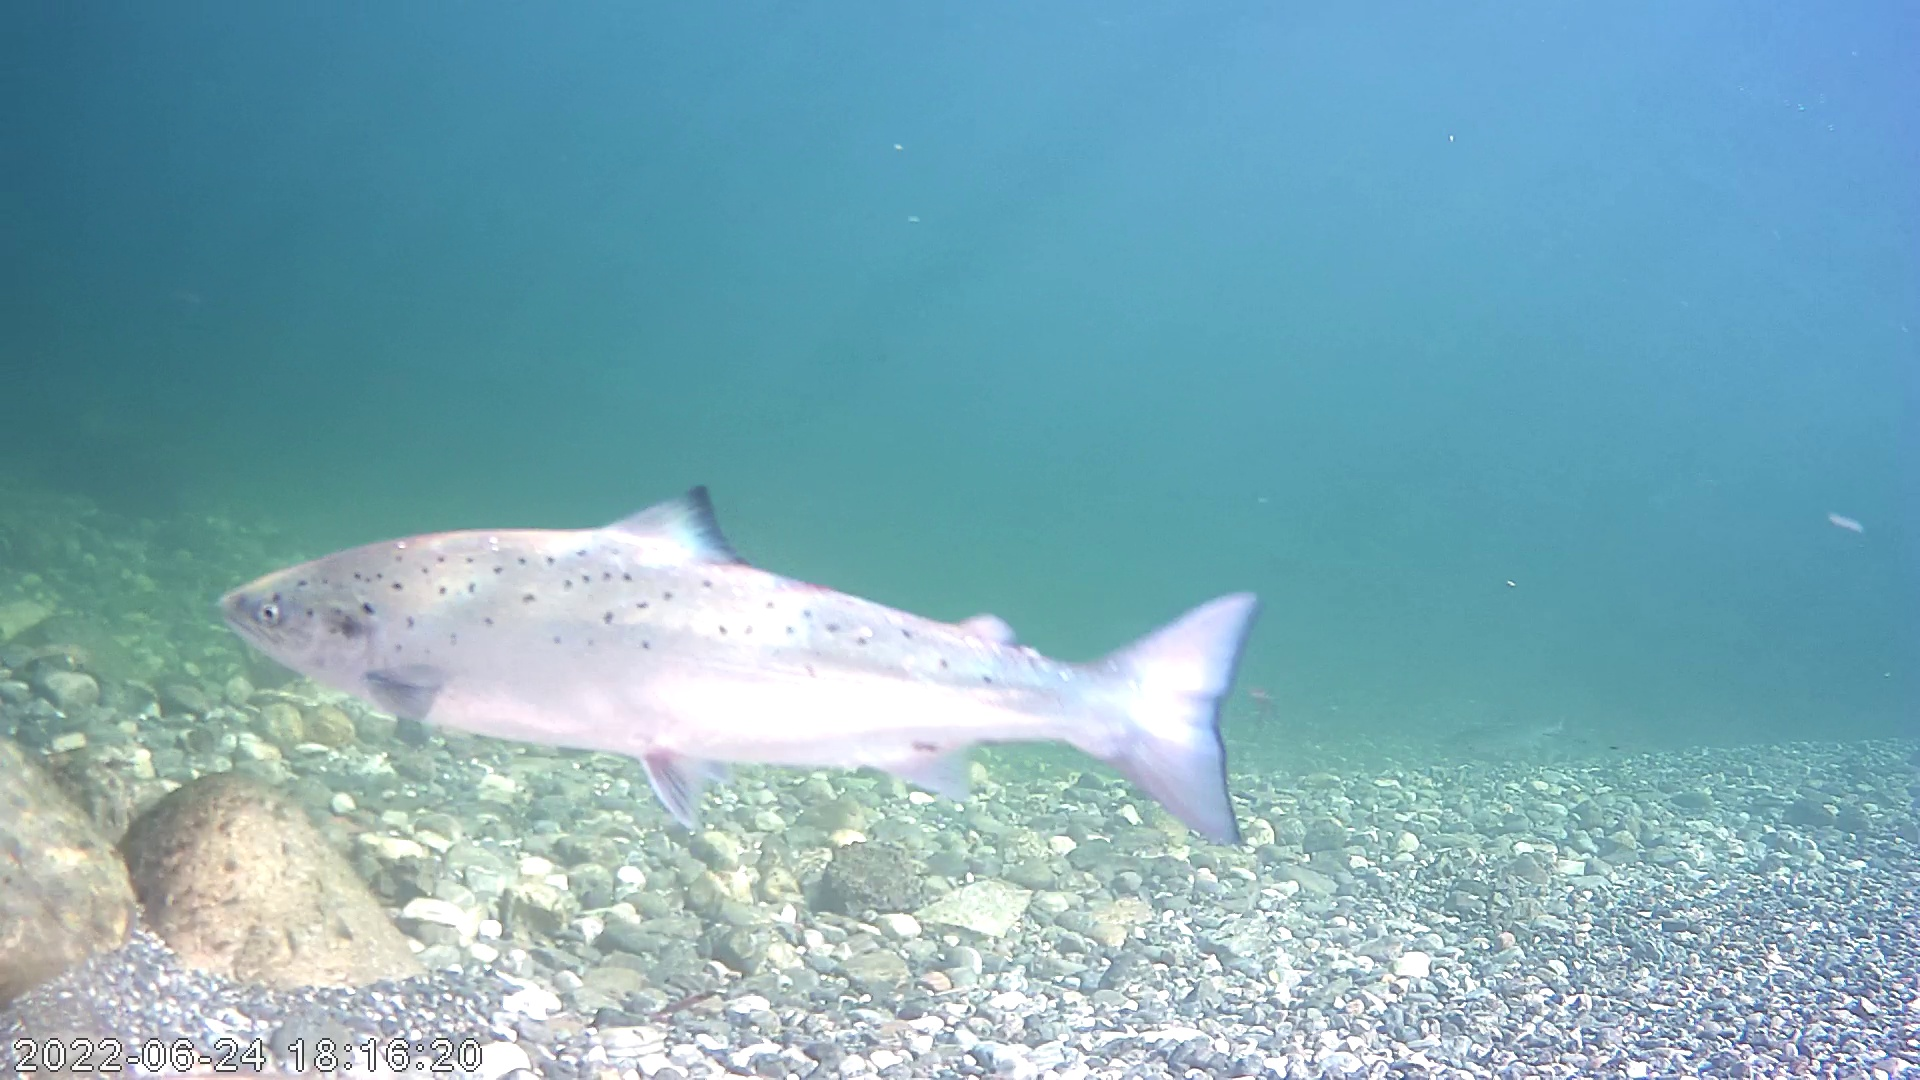salmon: (214, 483, 1266, 852)
